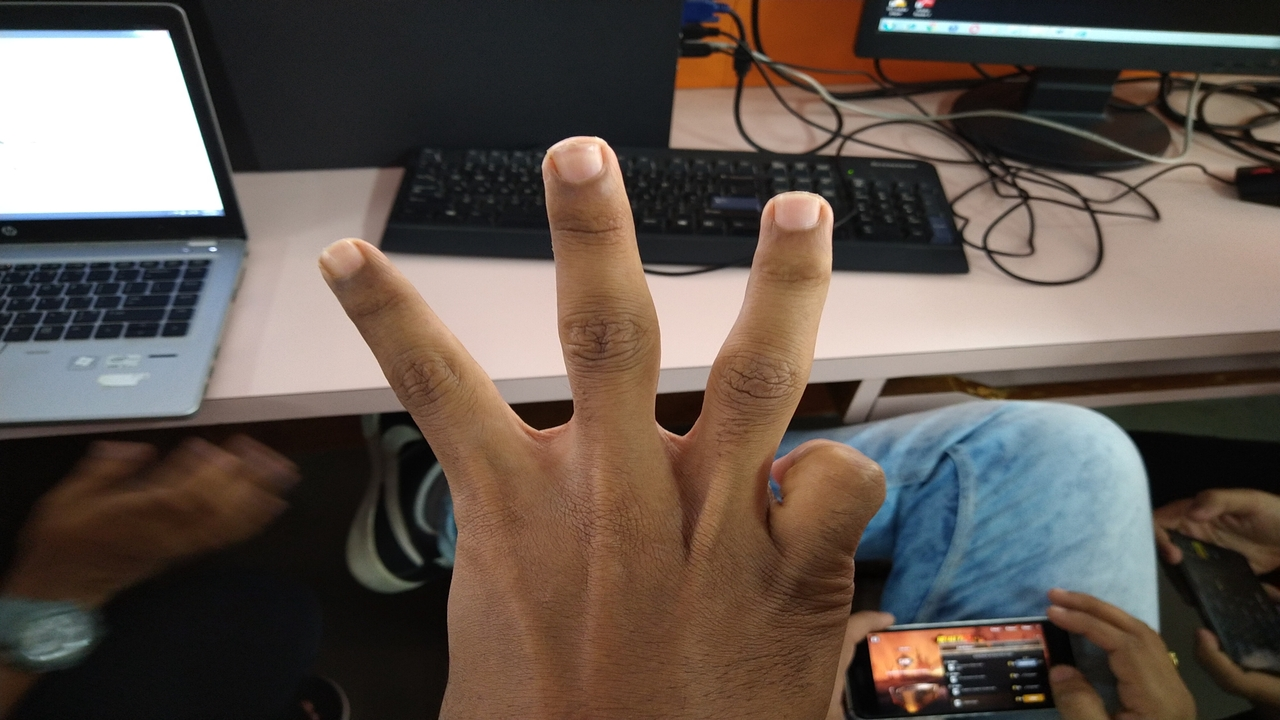fingertip: (530, 134, 620, 206), (756, 184, 838, 254), (306, 234, 374, 292)
